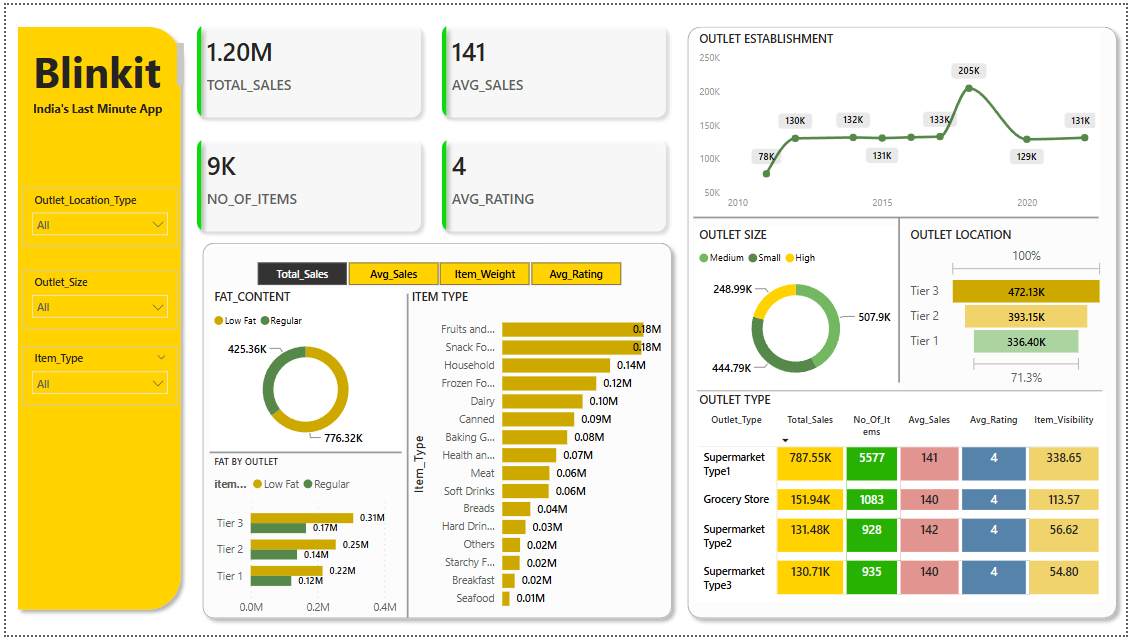

The dashboard page shown, as its layout file describes it:
{"tool":"powerbi","page":{"name":"Page 1","canvas":[1280,720],"ordinal":0},"visuals":[{"type":"shape","box":[4.3,15.7,204.3,684.3],"z":0},{"type":"textbox","box":[25.7,38.6,182.9,65.7],"z":1000},{"type":"textbox","box":[25.7,104.3,182.9,30],"z":2000},{"type":"cardVisual","fields":{"Data":["Blinkit_data_table.Total_Sales","Blinkit_data_table.Avg_Sales","Blinkit_data_table.No_Of_Items","Blinkit_data_table.Avg_Rating"]},"box":[201.4,5.7,570,270],"z":3000},{"type":"shape","box":[215.7,262.9,554.3,447.1],"z":4000},{"type":"donutChart","title":"FAT_CONTENT","fields":{"Y":["Blinkit_data_table.Total_Sales"],"Category":["Blinkit_data_table.item_fat_content"]},"box":[233.3,323.8,219.6,185.2],"z":5000},{"type":"slicer","fields":{"Values":["Metrics.Metrics"]},"box":[260.7,286.8,465.2,39.8],"z":6000},{"type":"clusteredBarChart","title":"FAT BY OUTLET","fields":{"Y":["Blinkit_data_table.Total_Sales"],"Category":["Blinkit_data_table.Outlet_Location_Type"],"Series":["Blinkit_data_table.item_fat_content"]},"box":[233.3,514.6,219.6,192.1],"z":7000},{"type":"shape","box":[233.3,491.3,219.6,39.8],"z":8000},{"type":"shape","box":[452.8,329.3,12.3,370.5],"z":9000},{"type":"barChart","title":"ITEM TYPE","fields":{"Y":["Blinkit_data_table.Total_Sales"],"Category":["Blinkit_data_table.Item_Type"]},"box":[458.3,323.8,295,376],"z":10000},{"type":"shape","box":[770,15.7,508.6,694.3],"z":11000},{"type":"lineChart","title":"OUTLET ESTABLISHMENT","fields":{"Y":["Blinkit_data_table.Total_Sales"],"Category":["Blinkit_data_table.Outlet_Establishment_Year"]},"box":[787.1,28.6,462.9,214.3],"z":12000},{"type":"shape","box":[785.7,232.9,462.9,20],"z":13000},{"type":"donutChart","title":"OUTLET SIZE","fields":{"Y":["Blinkit_data_table.Total_Sales"],"Category":["Blinkit_data_table.Outlet_Size"]},"box":[787.1,252.9,231.4,188.6],"z":14000},{"type":"funnel","title":"OUTLET LOCATION","fields":{"Y":["Sum(Blinkit_data_table.Sales)"],"Category":["Blinkit_data_table.Outlet_Location_Type"]},"box":[1028.6,252.9,231.4,188.6],"z":15000},{"type":"shape","box":[1017.1,242.9,7.1,188.6],"z":16000},{"type":"shape","box":[790,431.4,462.9,20],"z":17000},{"type":"pivotTable","title":"OUTLET TYPE","fields":{"Rows":["Blinkit_data_table.Outlet_Type"],"Values":["Blinkit_data_table.Total_Sales","Blinkit_data_table.No_Of_Items","Blinkit_data_table.Avg_Sales","Blinkit_data_table.Avg_Rating","Sum(Blinkit_data_table.Item_Visibility)"]},"box":[787.1,441.4,470,241.4],"z":18000},{"type":"slicer","fields":{"Values":["Blinkit_data_table.Outlet_Location_Type"]},"box":[18.6,208.6,177.1,67.1],"z":18001},{"type":"slicer","fields":{"Values":["Blinkit_data_table.Outlet_Size"]},"box":[18.6,302.9,177.1,67.1],"z":18002},{"type":"slicer","fields":{"Values":["Blinkit_data_table.Item_Type"]},"box":[18.6,390,177.1,67.1],"z":18003}]}

Visuals, with their boxes in screenshot pixels (x1, y1, x2, y2), scaled from the page's 1280x720 canvas onto the 1130x637 screenshot:
shape: box=[4, 14, 184, 619]
textbox: box=[23, 34, 184, 92]
textbox: box=[23, 92, 184, 119]
cardVisual - Blinkit_data_table.Total_Sales x Blinkit_data_table.Avg_Sales: box=[178, 5, 681, 244]
shape: box=[190, 233, 680, 628]
"FAT_CONTENT" donutChart: box=[206, 286, 400, 450]
slicer - Metrics.Metrics: box=[230, 254, 641, 289]
"FAT BY OUTLET" clusteredBarChart: box=[206, 455, 400, 625]
shape: box=[206, 435, 400, 470]
shape: box=[400, 291, 411, 619]
"ITEM TYPE" barChart: box=[405, 286, 665, 619]
shape: box=[680, 14, 1129, 628]
"OUTLET ESTABLISHMENT" lineChart: box=[695, 25, 1104, 215]
shape: box=[694, 206, 1102, 224]
"OUTLET SIZE" donutChart: box=[695, 224, 899, 391]
"OUTLET LOCATION" funnel: box=[908, 224, 1112, 391]
shape: box=[898, 215, 904, 382]
shape: box=[697, 382, 1106, 399]
"OUTLET TYPE" pivotTable: box=[695, 391, 1110, 604]
slicer - Blinkit_data_table.Outlet_Location_Type: box=[16, 185, 173, 244]
slicer - Blinkit_data_table.Outlet_Size: box=[16, 268, 173, 327]
slicer - Blinkit_data_table.Item_Type: box=[16, 345, 173, 404]
